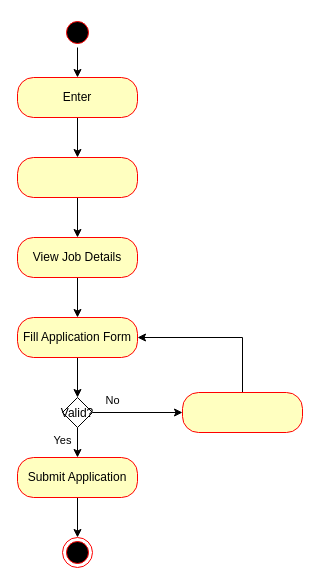
The diagram is 320 pixels wide and 585 high, and some of its shapes have lost their labels. The shapes that lost their labels are listed below. From the top down, each one's centre as x and y in pixels, then its label:
At (x=77, y=177): "Search Job Listings".
At (x=242, y=412): "Fix Application Issues".
